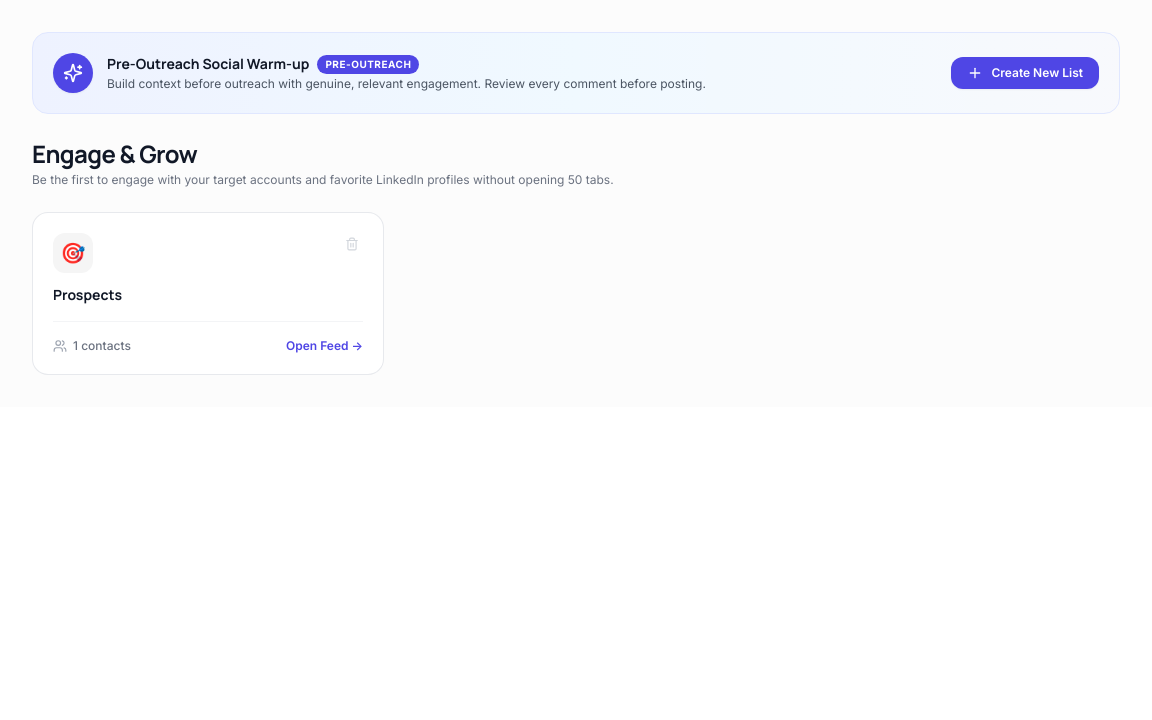
Scenario: Engage review and reporting › shows the manual draft queue and a truthful print report
The image size is (1152, 720).
Click the element showing "🎯 Prospects 1 contacts Open Feed →" at point(208, 294), box [32,212,384,375]
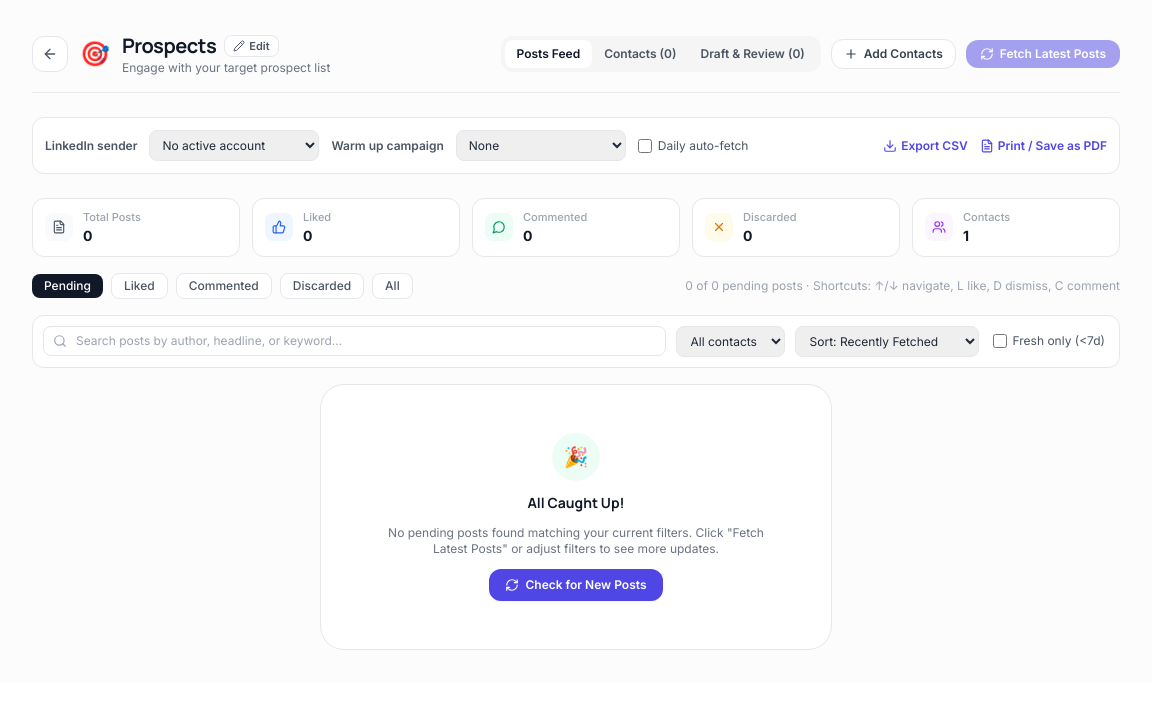
Result: the text "Draft & Review" is shown at [688,40,817,68]
Result: the text "Print / Save as PDF" is shown
Click the button "Print / Save as PDF" at point(1043, 146), box [980,138,1107,154]
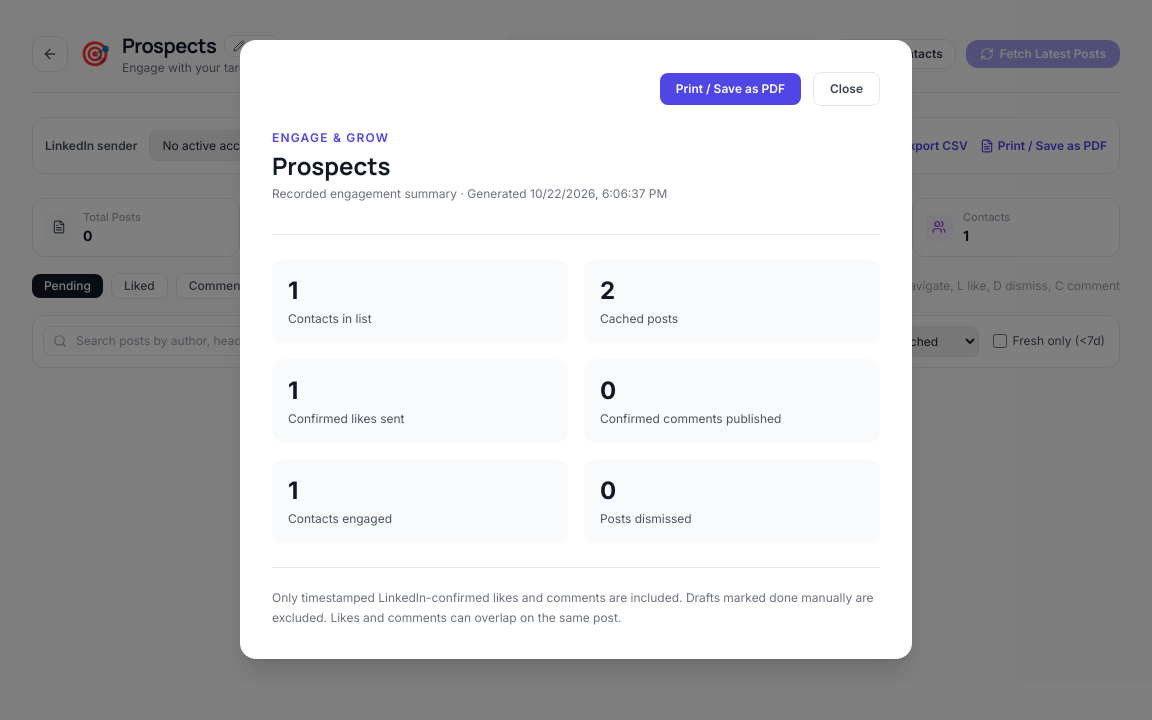
Result: the text "Confirmed likes sent" is shown at [288,411,404,426]
